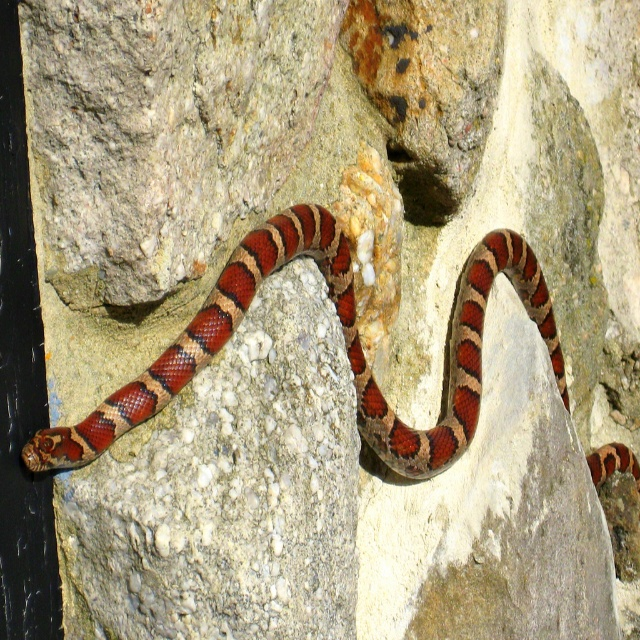Snake: (23, 197, 640, 492)
